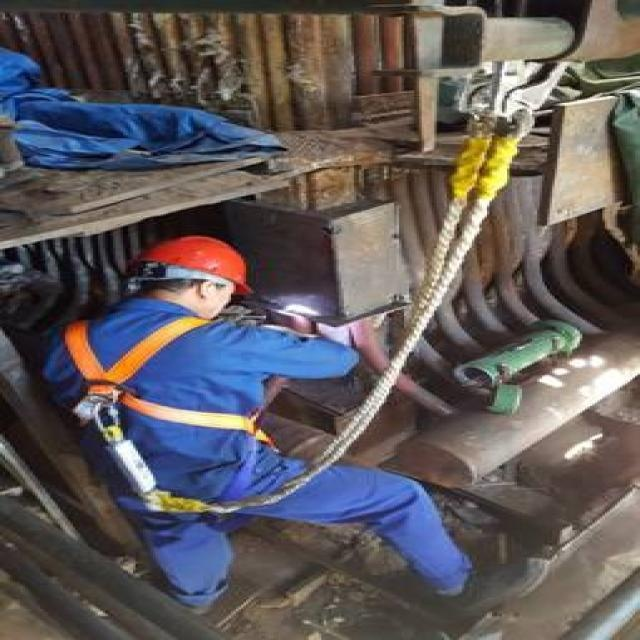Arnes_seguridad: (43, 310, 286, 455)
